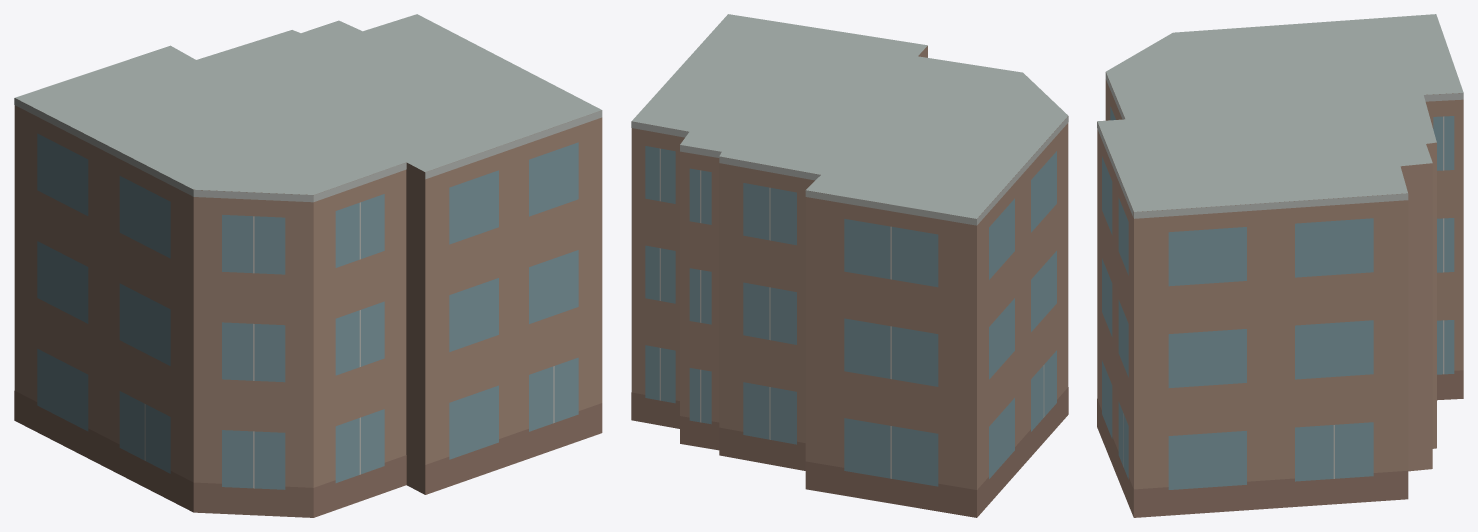
File: survey-upis-32561454.glb
The picture shows the model from 3 angles, left to right: view 1: azimuth 30°, elevation 25°; view 2: azimuth 150°, elevation 25°; view 3: azimuth 270°, elevation 25°; orthographic projection. The views are drawn at different scales.
Parts seen in each view (by area): view 1: survey-upis-32561454.tmp; view 2: survey-upis-32561454.tmp; view 3: survey-upis-32561454.tmp.
Part boxes in pixels (x1,y1,x2,y2): survey-upis-32561454.tmp: (14, 14, 602, 517); survey-upis-32561454.tmp: (631, 14, 1068, 517); survey-upis-32561454.tmp: (1097, 14, 1463, 517).
Size of the model in its own units: 15.14 by 10.9 by 11.85.
